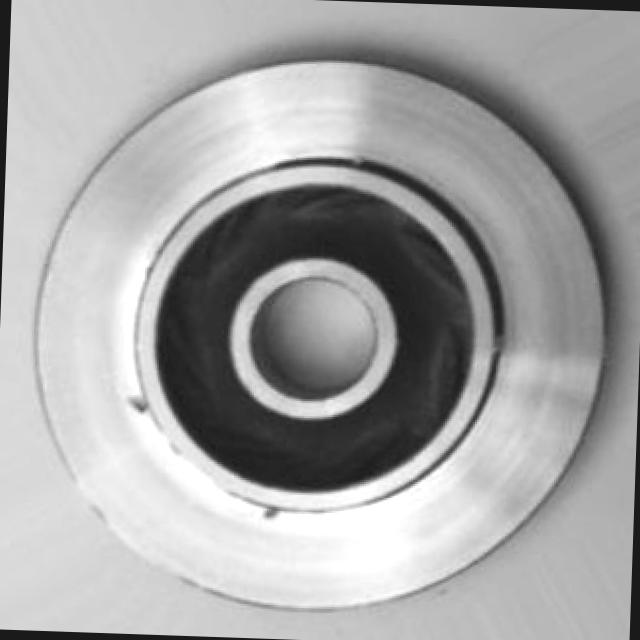Defect: (123, 388, 152, 420)
